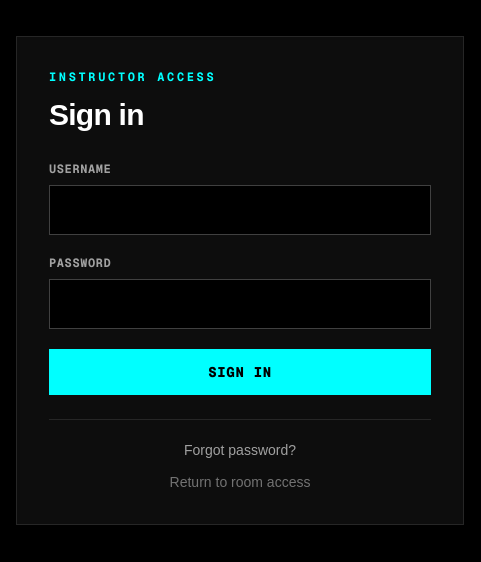
Test: AccountAuthPage › shows an unverified-account response without exposing an invitation resend path
Type "Medic" into the field labelled "Username" at (240, 210), box [49, 184, 431, 234]
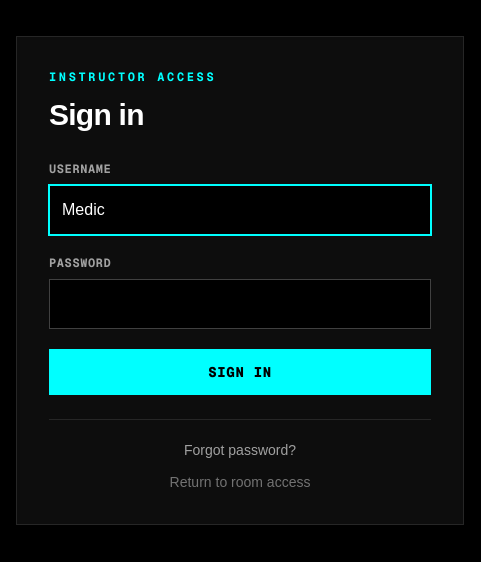
Type "password" into the password field labelled "Password" at (240, 304), box [49, 278, 431, 328]
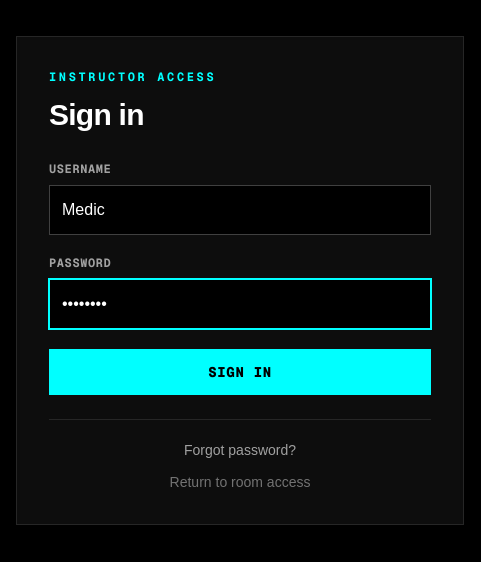
Click the button "Sign in" at (240, 372), box [49, 348, 431, 394]
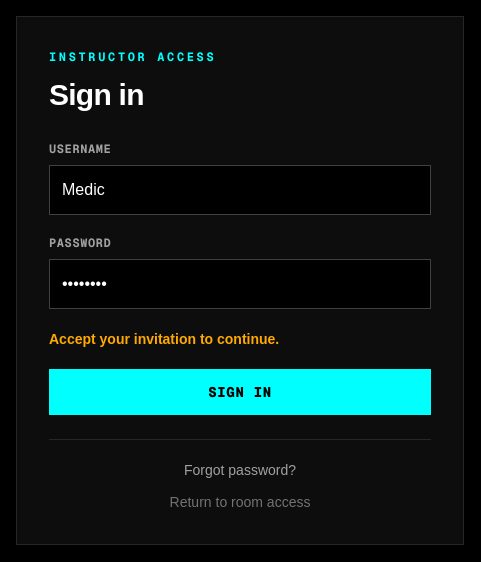
expect the message shows "Accept your invitation": met, box [49, 330, 279, 346]
